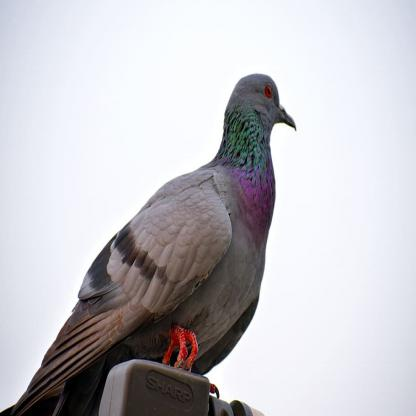Flying Rat: (6, 65, 302, 408)
